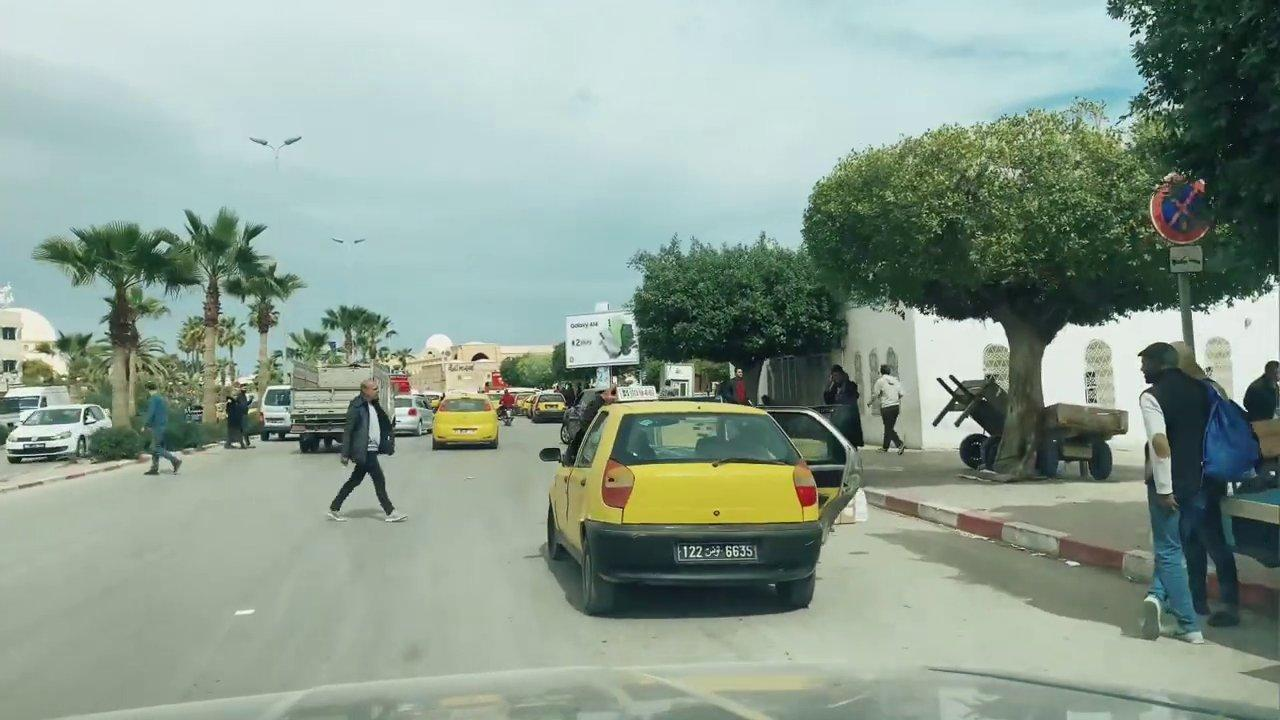no stopping: (1148, 172, 1222, 243)
